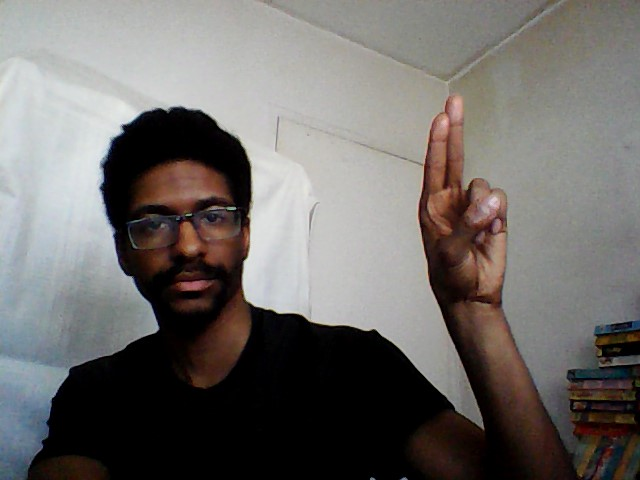u: (411, 93, 513, 306)
